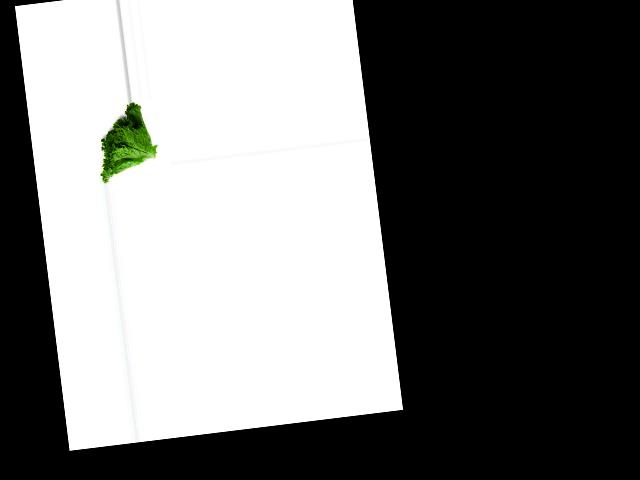lettuce: (90, 99, 159, 184)
